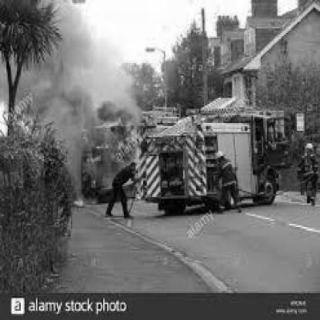Fire: (77, 113, 139, 169)
